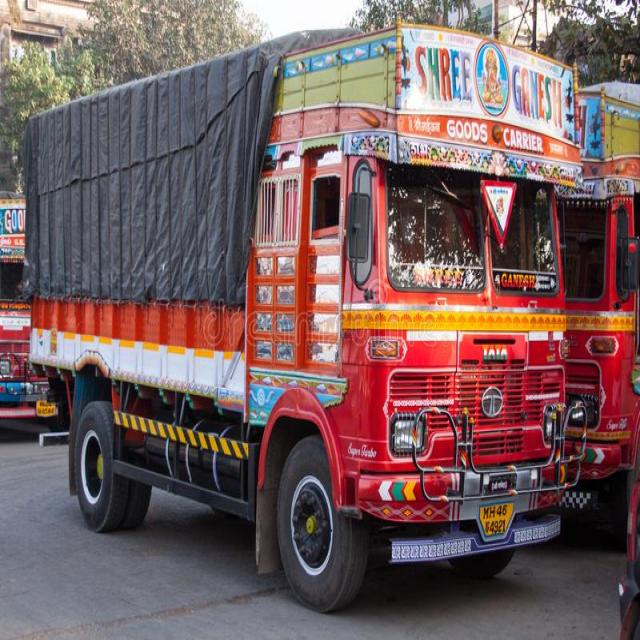truck: (25, 26, 585, 611)
